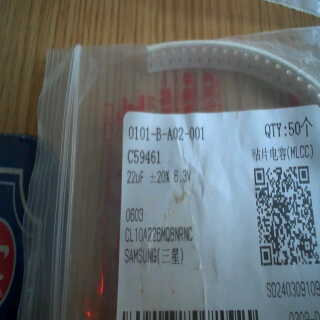22uF: (123, 165, 148, 187)
